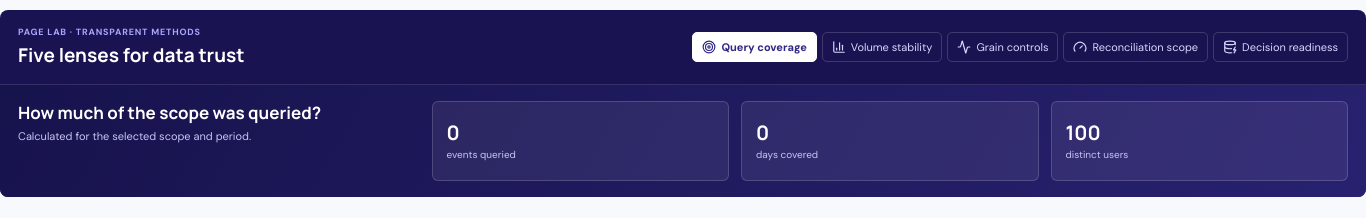
Test: Bilingual lens presentation › shows the actual legacy mart discrepancy, without claiming reconciliation
Click the tab "Reconciliation scope". click: (1136, 47)
box: [1064, 32, 1208, 62]
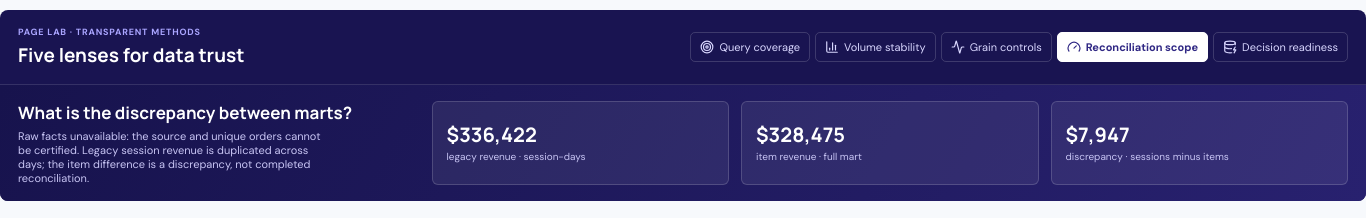
Check: the text "discrepancy · sessions minus items" is shown, box [1066, 150, 1229, 163]
Check: the text "cannot be certified" is shown, box [18, 129, 320, 185]
